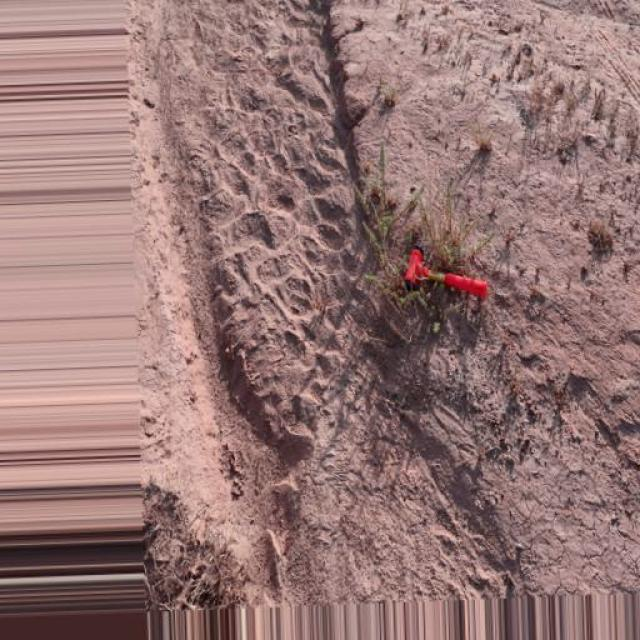mallet: (405, 246, 490, 299)
